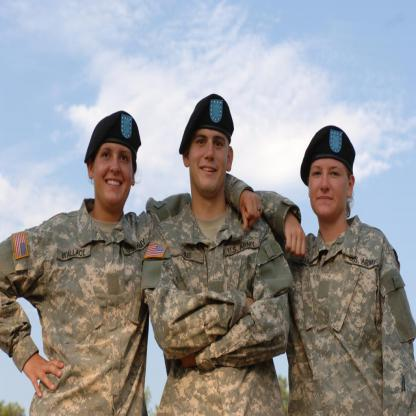face: (190, 116, 231, 194), (309, 145, 349, 217), (98, 136, 135, 207)
